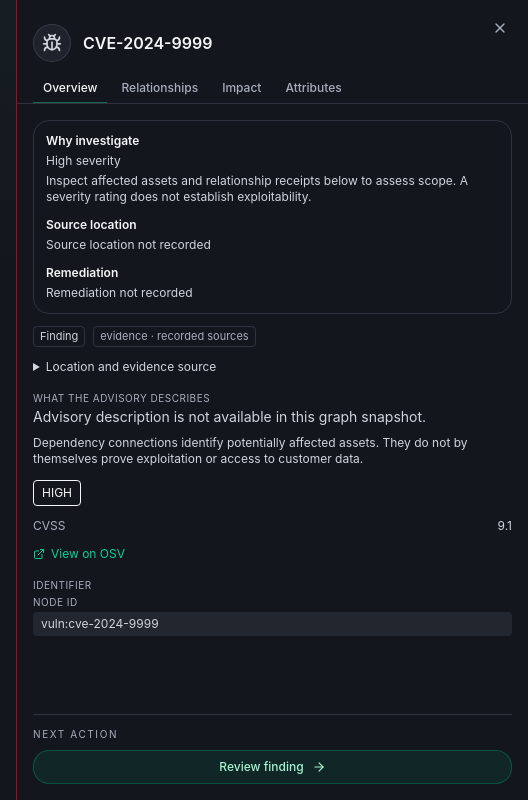
Scenario: graph entity drawer tabs › switches to Relationships and reveals the graph-context rows
Click the tab with test id "graph-drawer-tab-relationships" at (160,89), box left=112, top=74, right=208, bottom=104
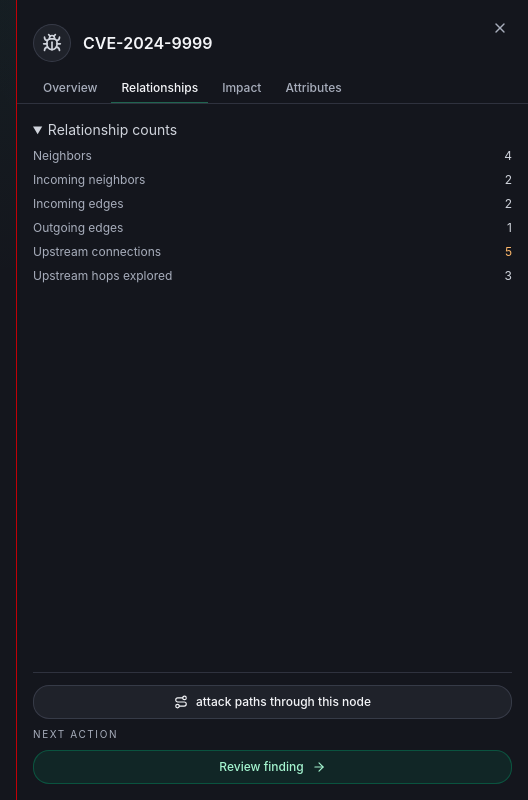
Result: the panel with test id "graph-drawer-panel-relationships" is shown at left=33, top=121, right=512, bottom=283
Result: the text "Neighbors" is shown at left=33, top=148, right=92, bottom=164
Result: the text "Incoming edges" is shown at left=33, top=196, right=124, bottom=212
